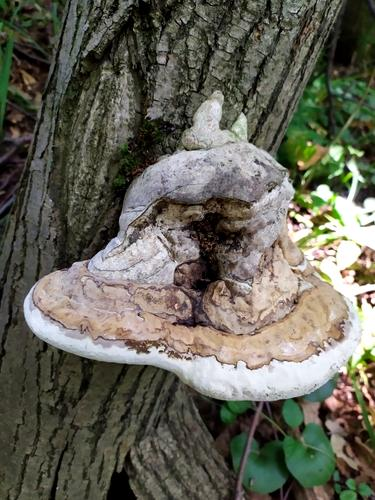Ganoderma - Fruit Body: (26, 129, 362, 403)
